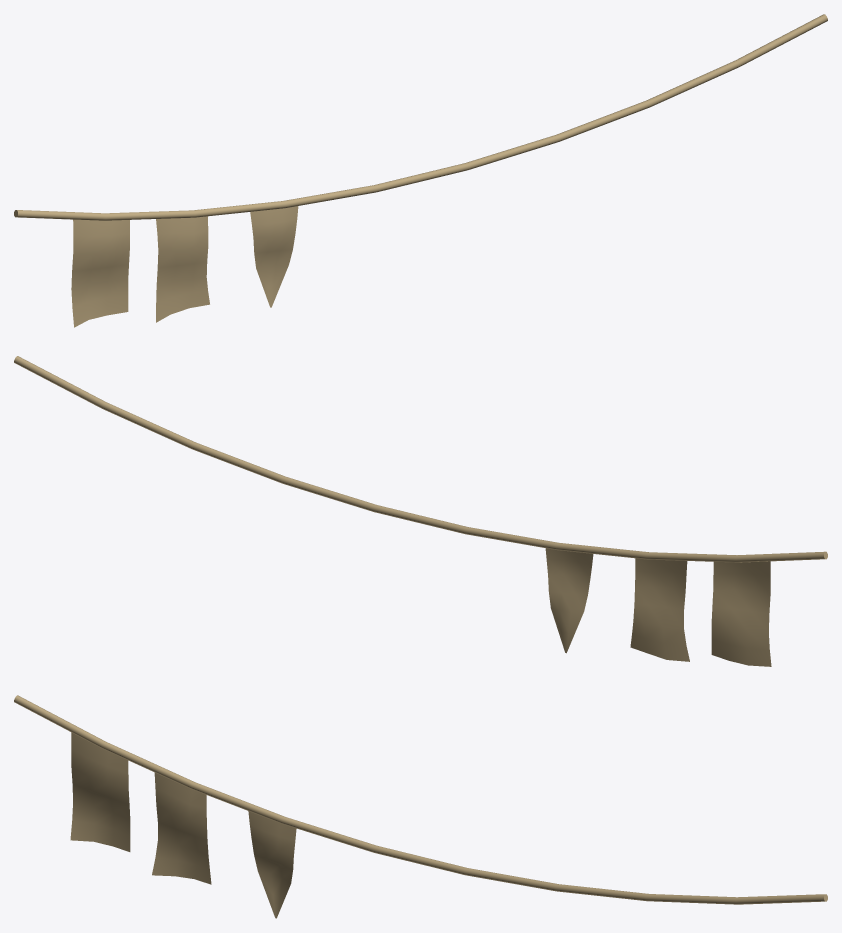
File: flag.fbx
The picture shows the model from 3 angles, top to bottom: view 1: azimuth 30°, elevation 25°; view 2: azimuth 150°, elevation 25°; view 3: azimuth 330°, elevation 25°; orthographic projection.
Visible parts, largest first — view 1: flag; view 2: flag; view 3: flag.
Boxes of the visible parts, x1=… form: flag: x1=14, y1=14, x2=827, y2=327; flag: x1=14, y1=356, x2=827, y2=666; flag: x1=14, y1=695, x2=827, y2=918.
Size of the model in its own units: 697 by 133 by 9.94.
